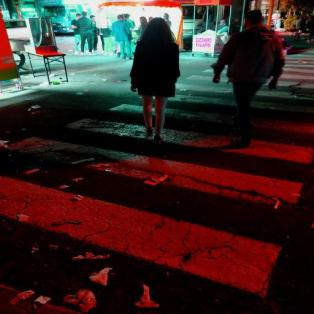Paso de Cebra: (3, 113, 314, 213)
